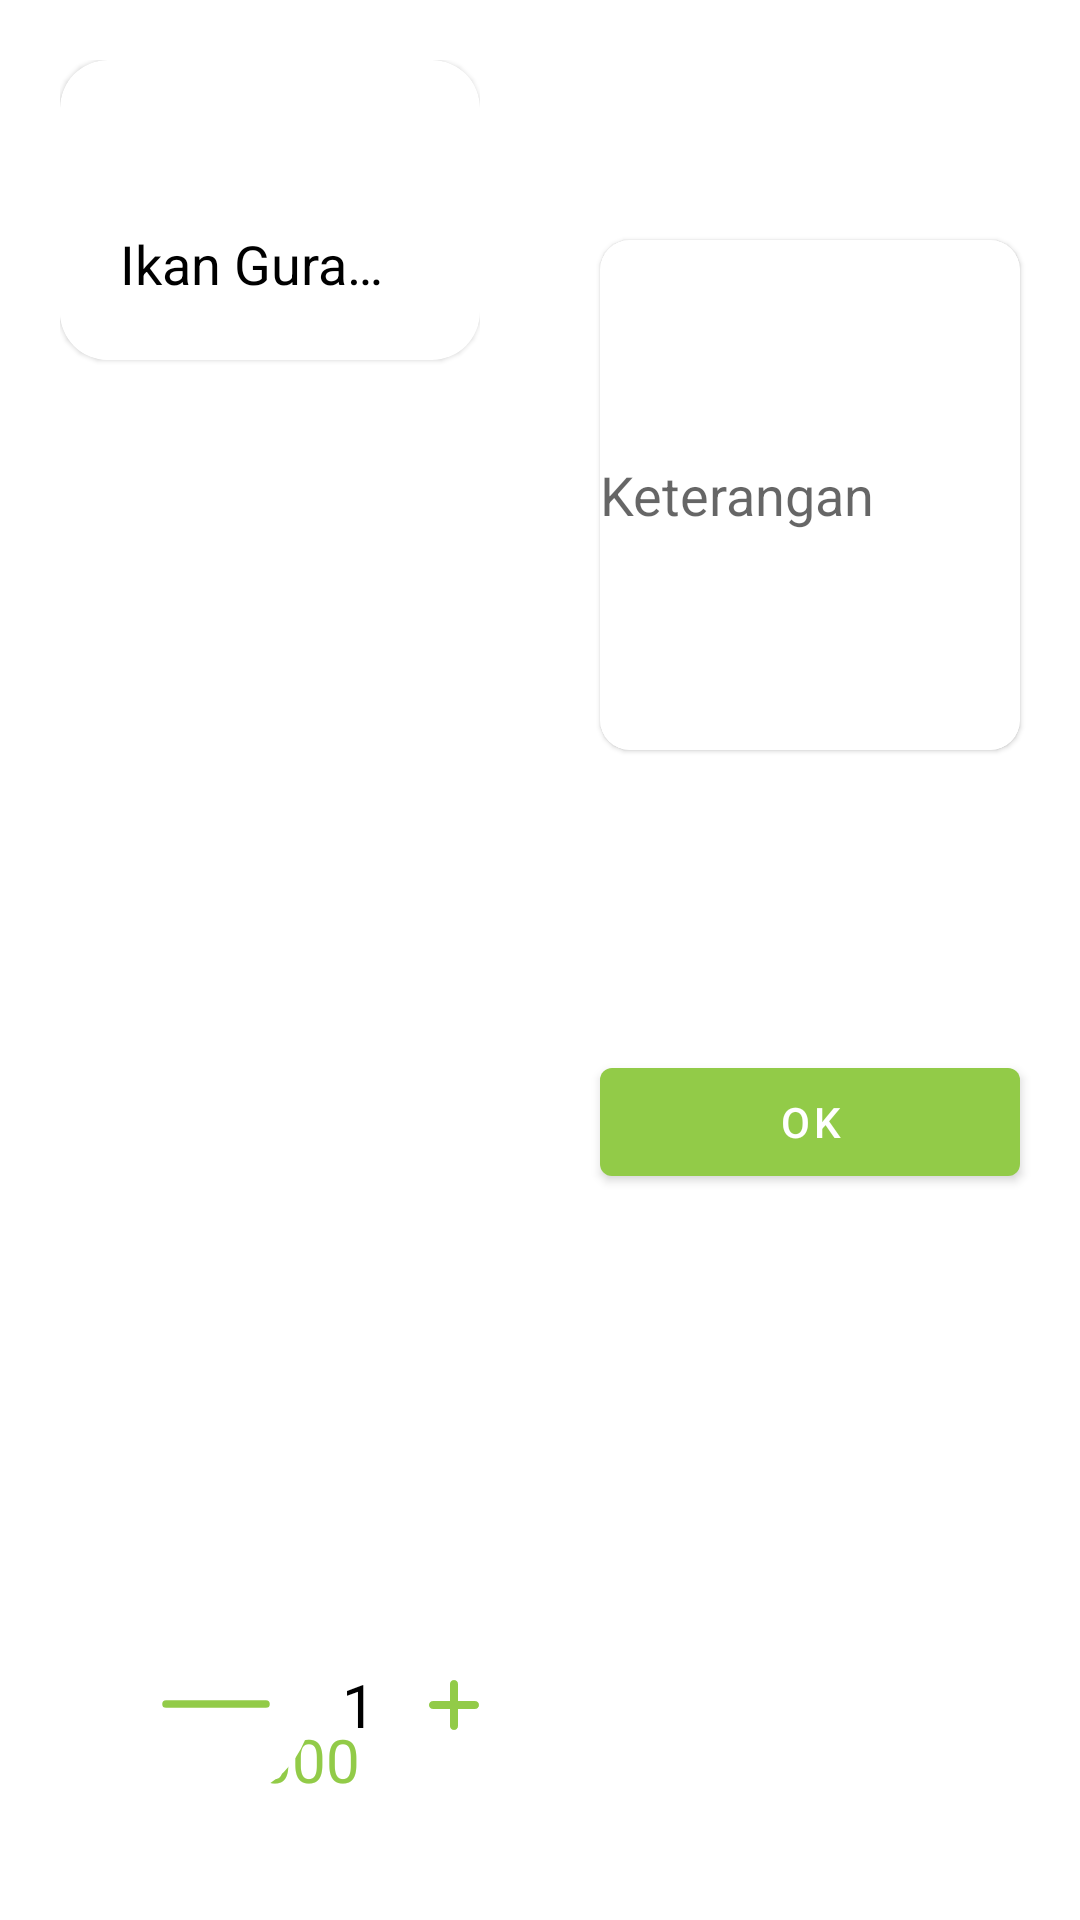

Locate icon controls on the screen. Image size 1080 × 1920, boxes as (x1,y1,x2,y2).
plus circle: (429,1680,479,1730)
